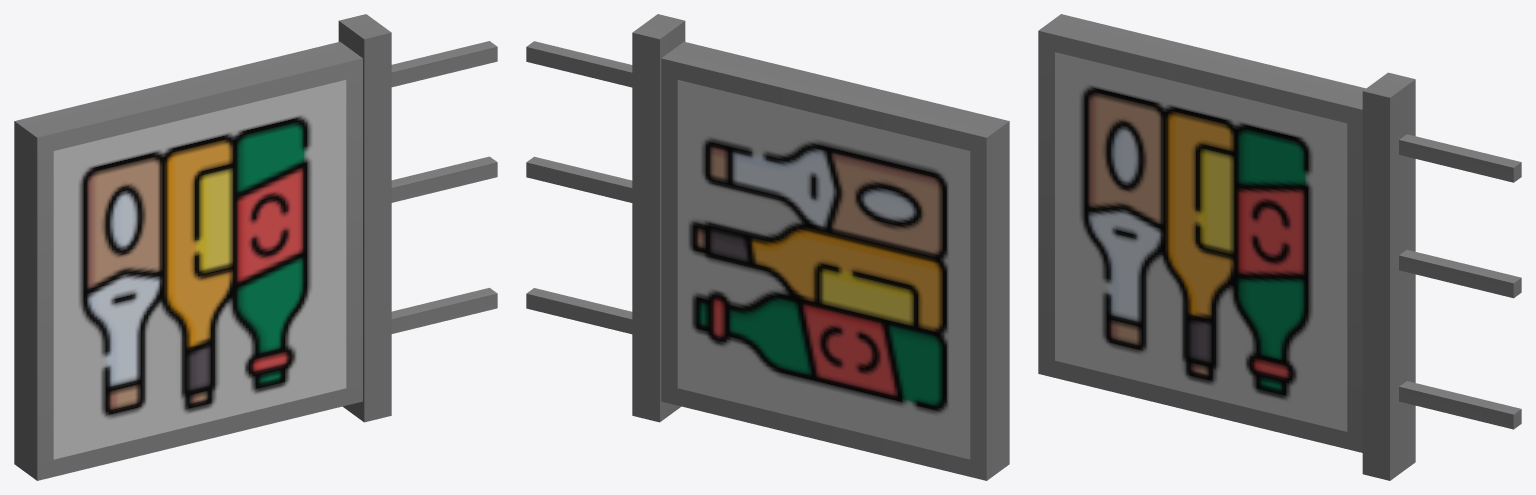
Rendered from B02_Enseigne_C_01.fbx.
3 views of the same model, side by side, from view 1: azimuth 30°, elevation 25°; view 2: azimuth 150°, elevation 25°; view 3: azimuth 330°, elevation 25° (orthographic).
Parts seen in each view (by area): view 1: B02_Enseigne_C_01; view 2: B02_Enseigne_C_01; view 3: B02_Enseigne_C_01.
Boxes of the visible parts, box(x1,y1,x2,y2) form: B02_Enseigne_C_01: box(14, 14, 497, 480); B02_Enseigne_C_01: box(526, 14, 1009, 480); B02_Enseigne_C_01: box(1038, 14, 1521, 480).
Bounding box in the file's own units: 348 × 272 × 32.82.
